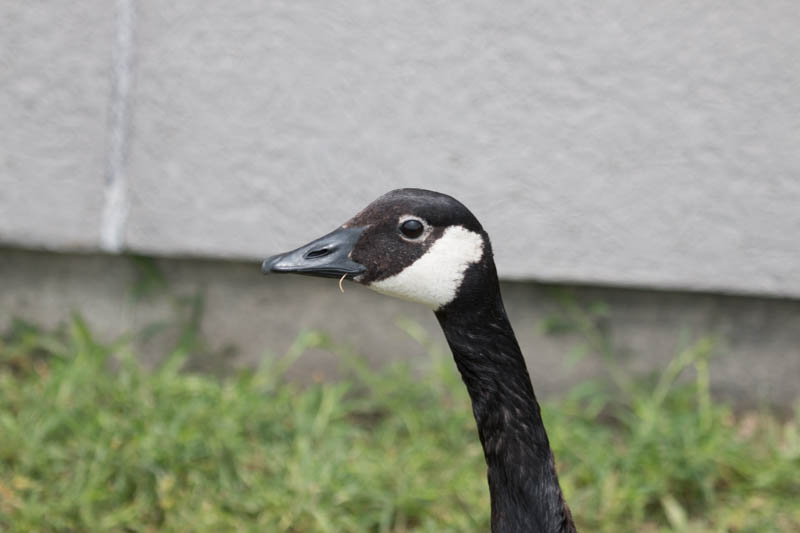goose-head: (259, 189, 504, 315)
